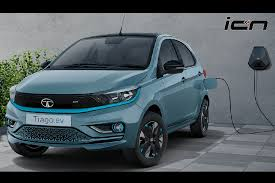Tiago: (6, 30, 210, 167)
